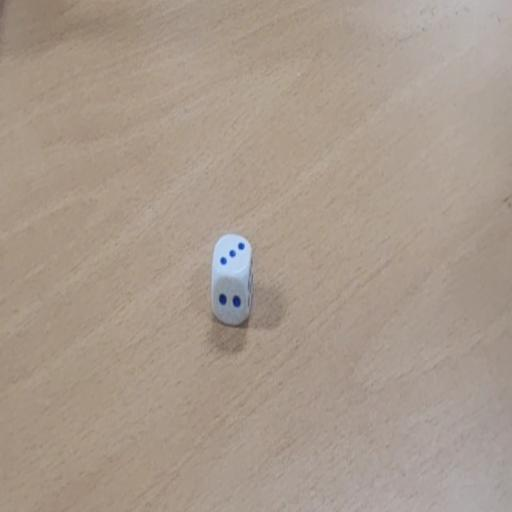dice_3: (209, 233, 255, 325)
